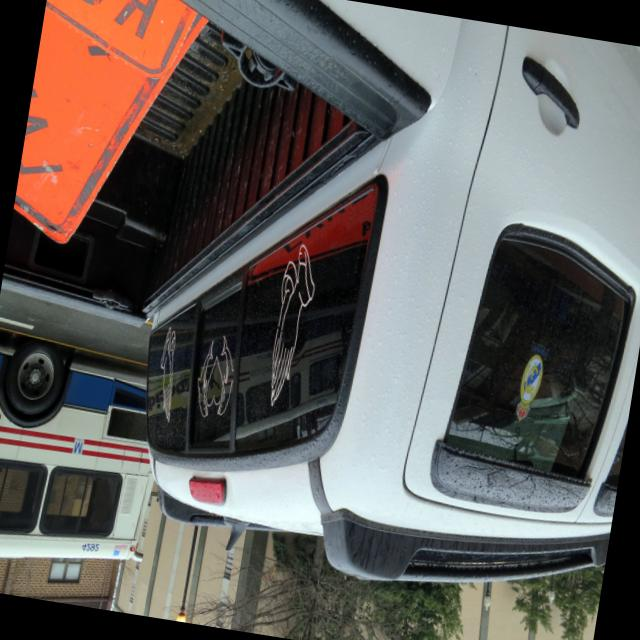bus: (0, 334, 171, 589)
